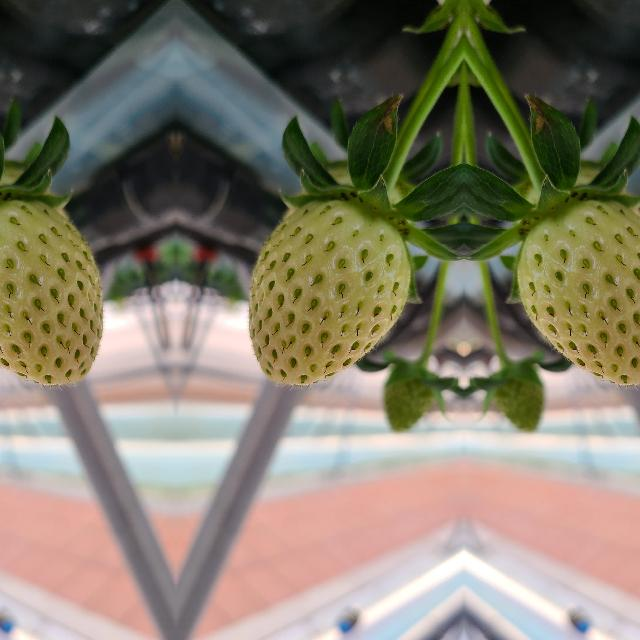Health_25: (248, 201, 408, 385), (518, 201, 640, 385), (0, 201, 102, 385)
